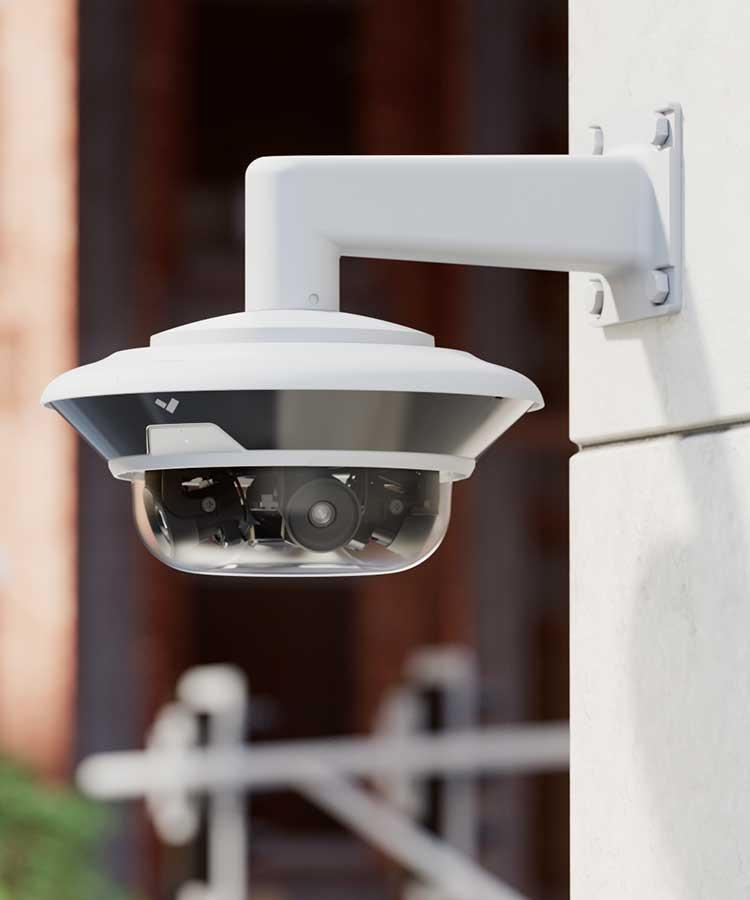360-Cam: (26, 289, 538, 616)
